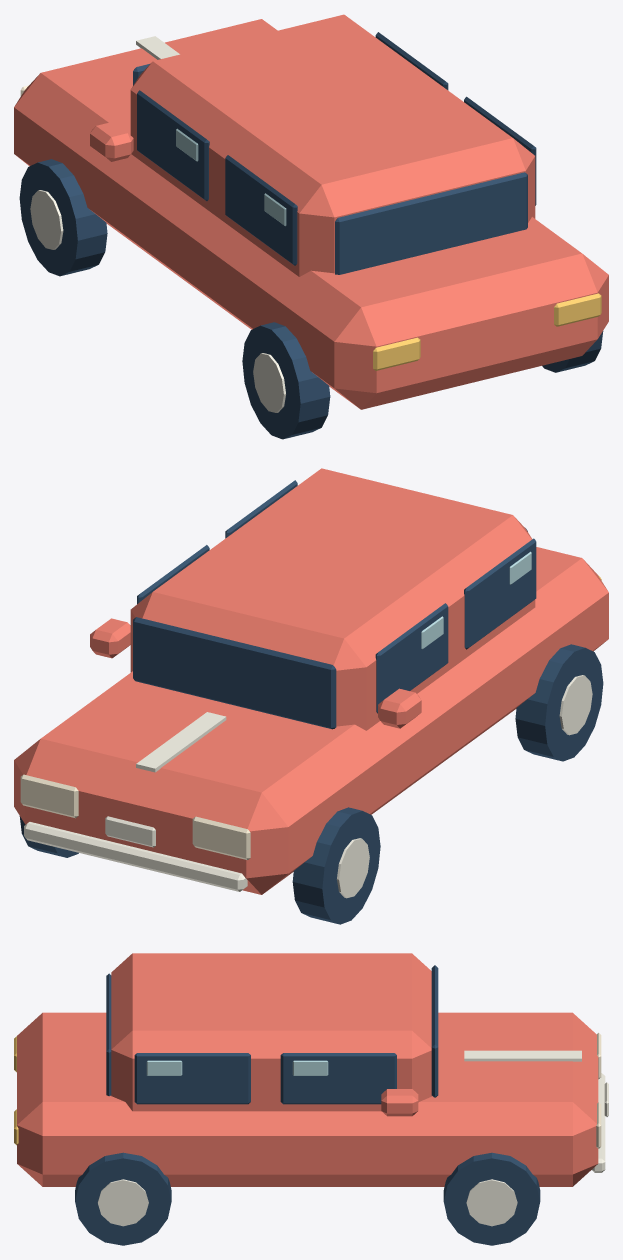
File: car-red.glb
The picture shows the model from 3 angles, top to bottom: view 1: azimuth 30°, elevation 25°; view 2: azimuth 150°, elevation 25°; view 3: azimuth 270°, elevation 25°; orthographic projection. The views are drawn at different scales.
Parts seen in each view (by area): view 1: Sora_Coral_Car_Surface; view 2: Sora_Coral_Car_Surface; view 3: Sora_Coral_Car_Surface.
Boxes of the visible parts, x1,y1,x2,y2 form: Sora_Coral_Car_Surface: [14, 14, 608, 439]; Sora_Coral_Car_Surface: [14, 468, 608, 924]; Sora_Coral_Car_Surface: [14, 953, 608, 1245].
Size of the model in its own units: 2.13 by 1.5 by 4.2.
